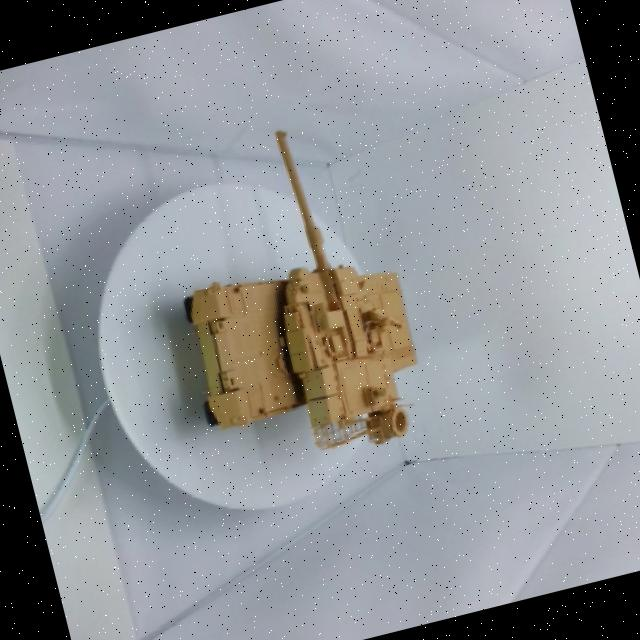korea tank: (106, 87, 485, 524)
